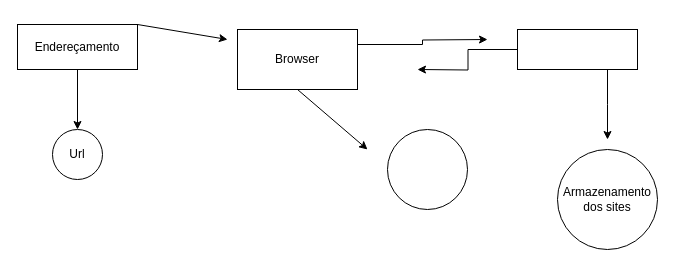
Image size: 675x267. Some labels were removed from this diagram. The box of each missing label's shape, as (x1, y1, x2, y2) in pixels:
DNS: (516, 28, 638, 70)
Historico: (386, 128, 468, 210)
